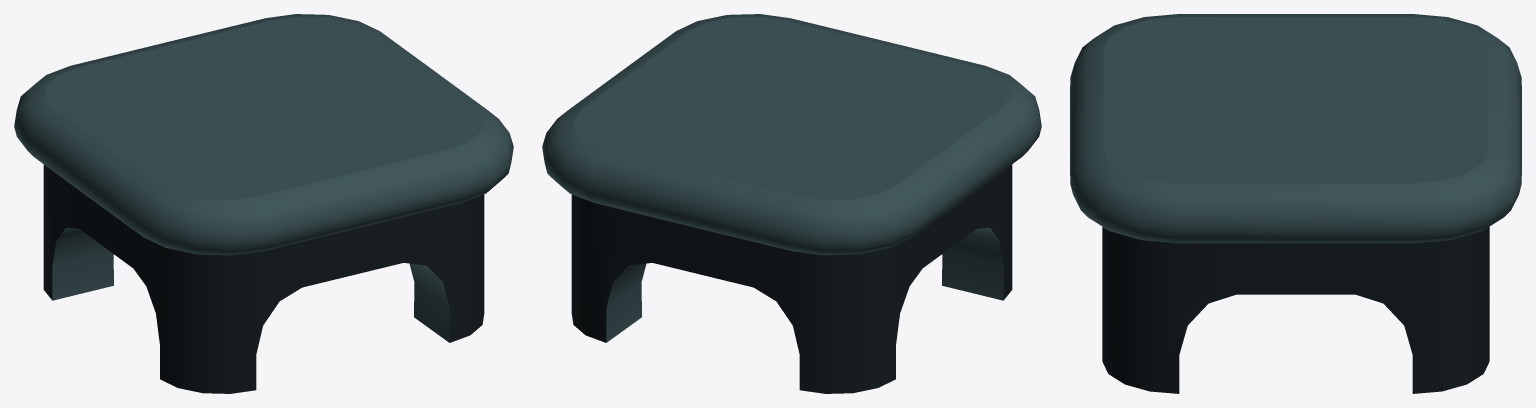
The model's file is FI_069_short_stool.glb.
3 views of the same model, side by side, from view 1: azimuth 30°, elevation 25°; view 2: azimuth 150°, elevation 25°; view 3: azimuth 270°, elevation 25° (orthographic). The views are drawn at different scales.
Visible parts, largest first — view 1: short_stool; view 2: short_stool; view 3: short_stool.
Part boxes in pixels (box(x1,y1,x2,y2)): short_stool: box(14, 14, 513, 393); short_stool: box(542, 14, 1041, 393); short_stool: box(1070, 14, 1521, 393).
Bounding box in the file's own units: 0.7467 × 0.375 × 0.7316.
